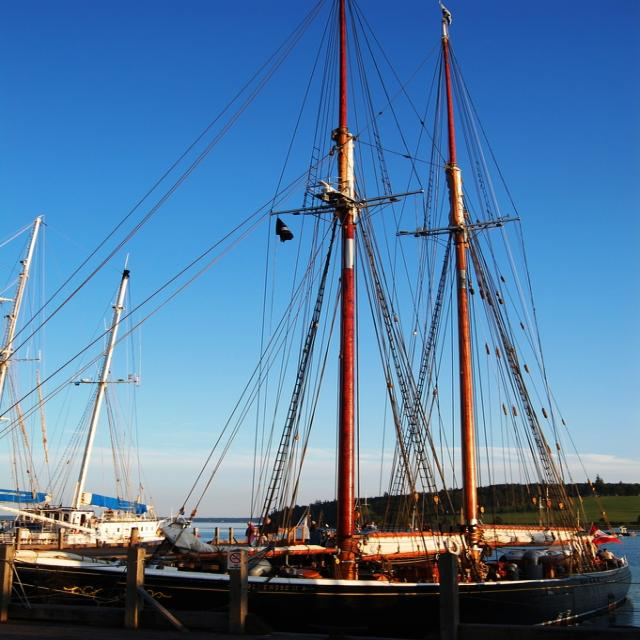Boat: (43, 37, 625, 640), (0, 258, 197, 550)
